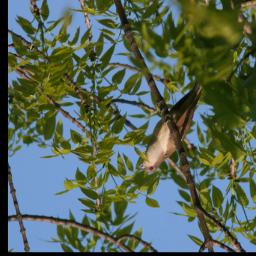Cuckoo: (137, 78, 205, 173)
